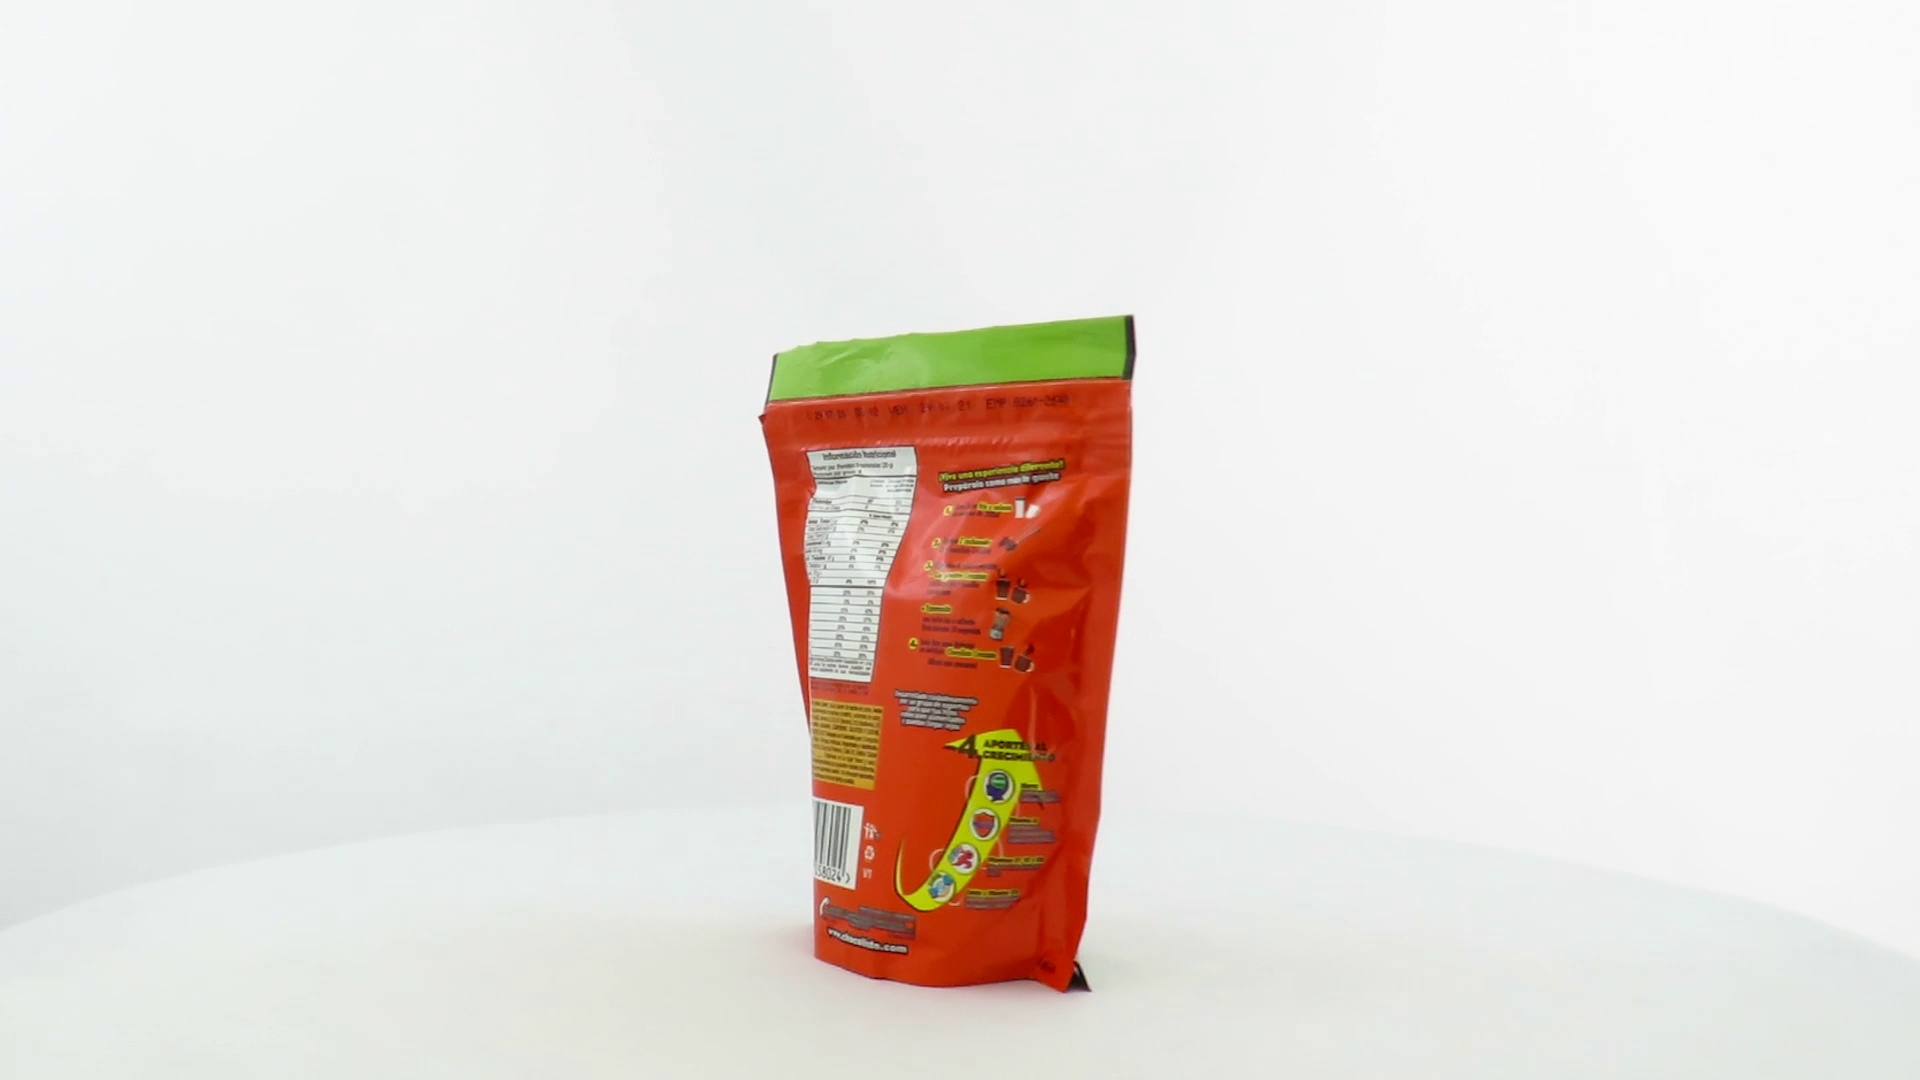COL0170102DYP10000: (753, 310, 1142, 1000)
